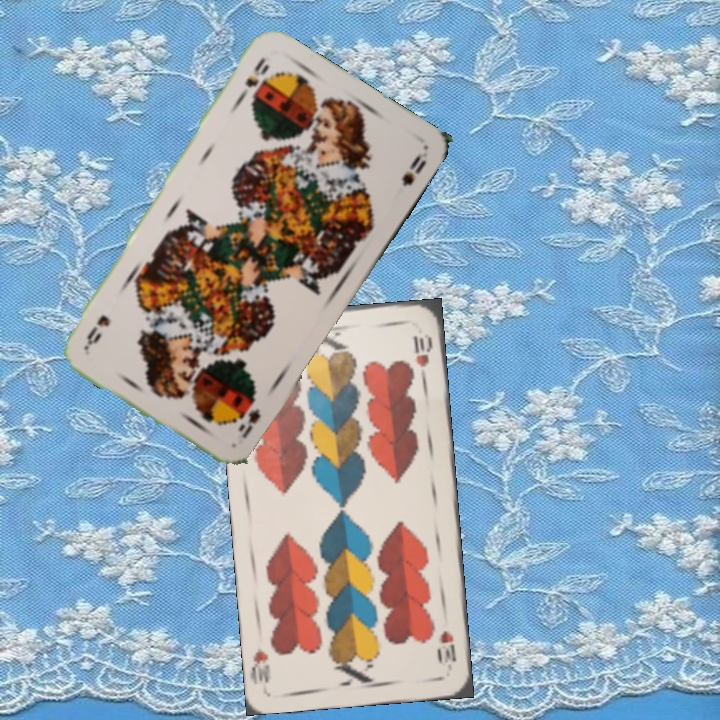H10: (434, 627, 459, 669)
SO: (234, 53, 272, 104), (234, 404, 263, 442)
